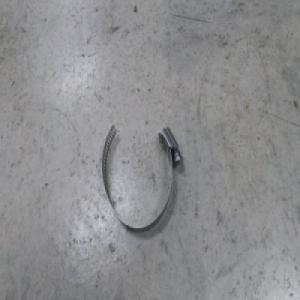AdjustableClamp: (102, 121, 183, 232)
